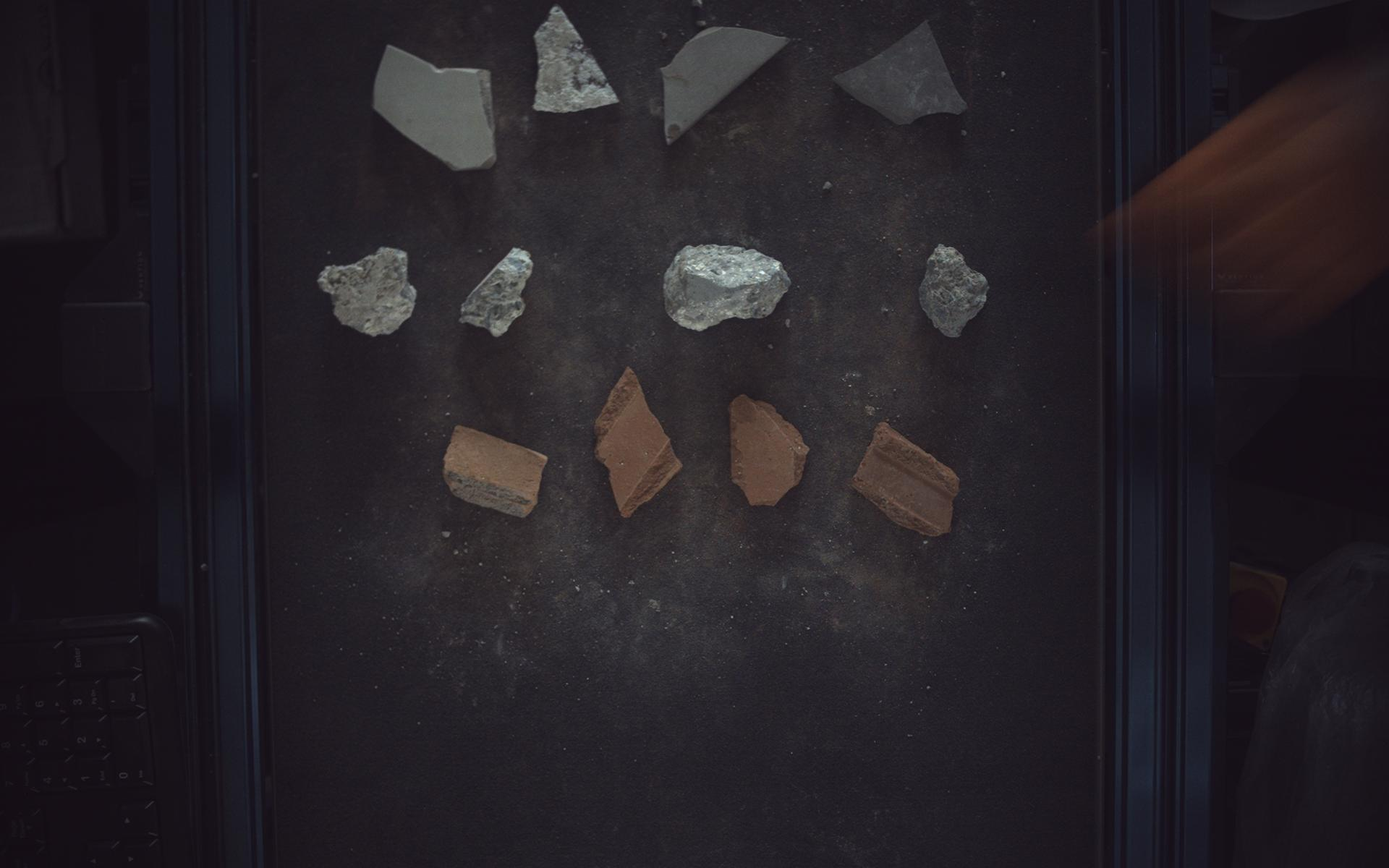brick: (595, 367, 683, 518), (854, 422, 961, 537), (443, 425, 548, 518), (731, 395, 810, 506)
concrete: (666, 244, 792, 331), (318, 247, 416, 336), (921, 244, 991, 337), (462, 247, 533, 336)
tile: (374, 44, 496, 170), (663, 25, 789, 143), (835, 20, 969, 124), (533, 4, 619, 111)
